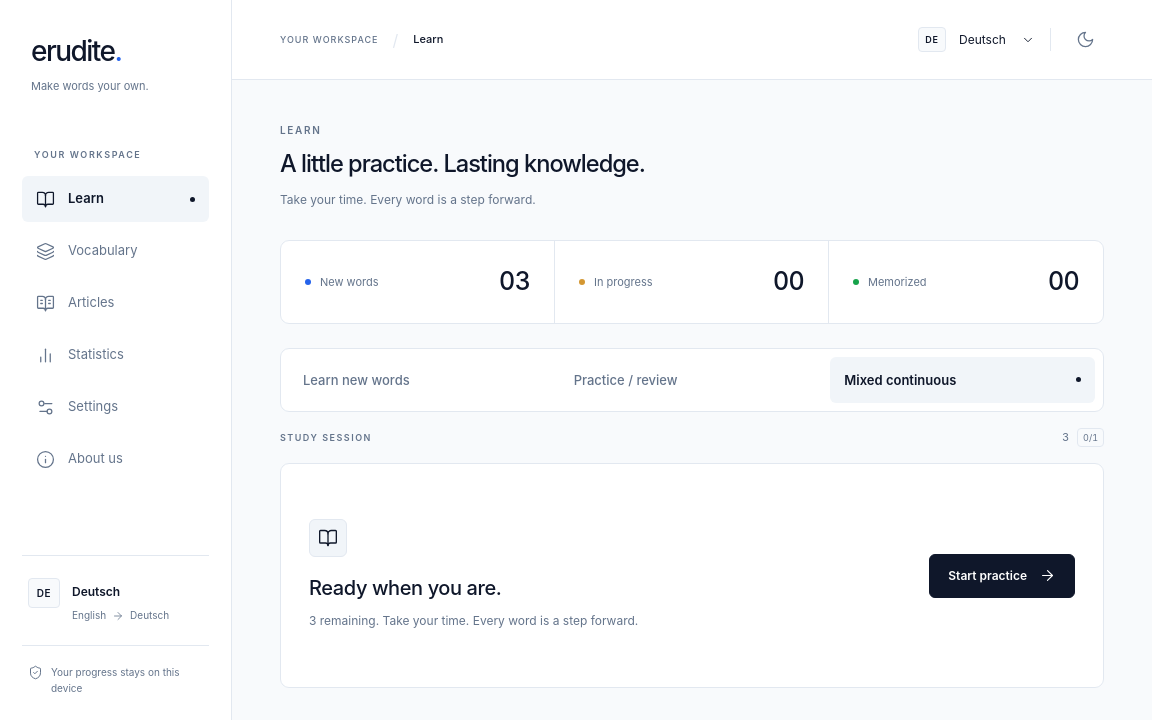
Test case: daily word goal › ends the session and retains progress across an app remount
Click the button "Start practice".
click(1002, 576)  # box [929,554,1075,598]
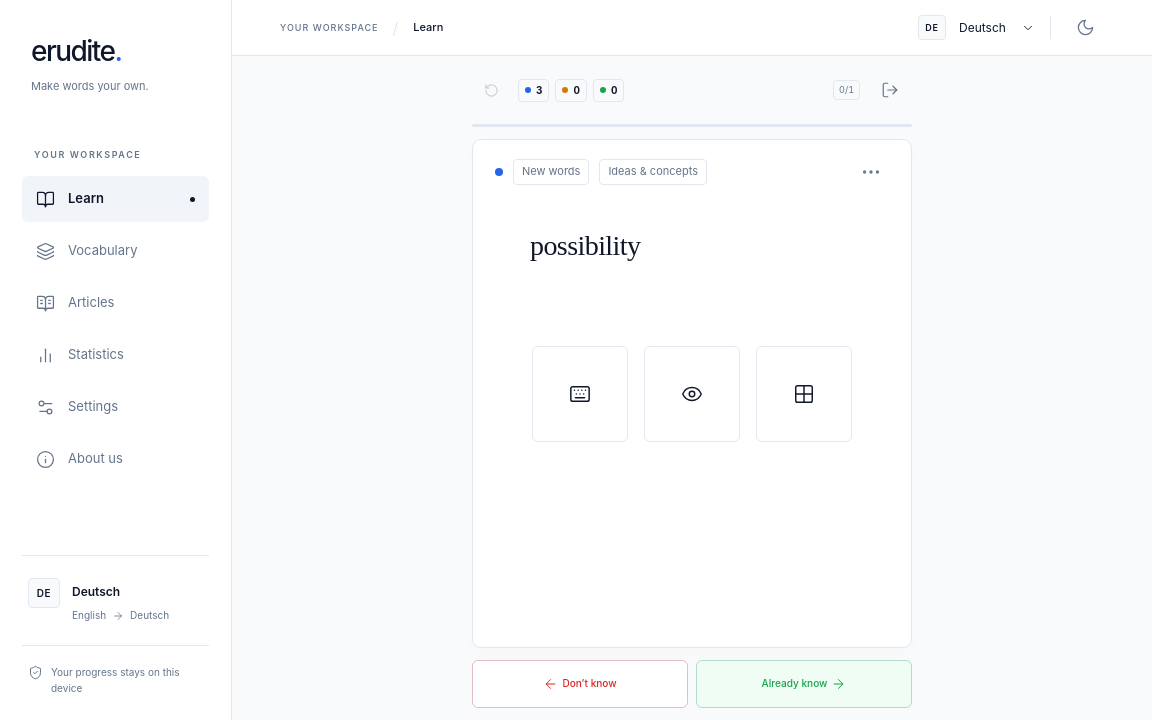
Click the button with class "action-know".
click(804, 684)  # box [696,660,912,708]
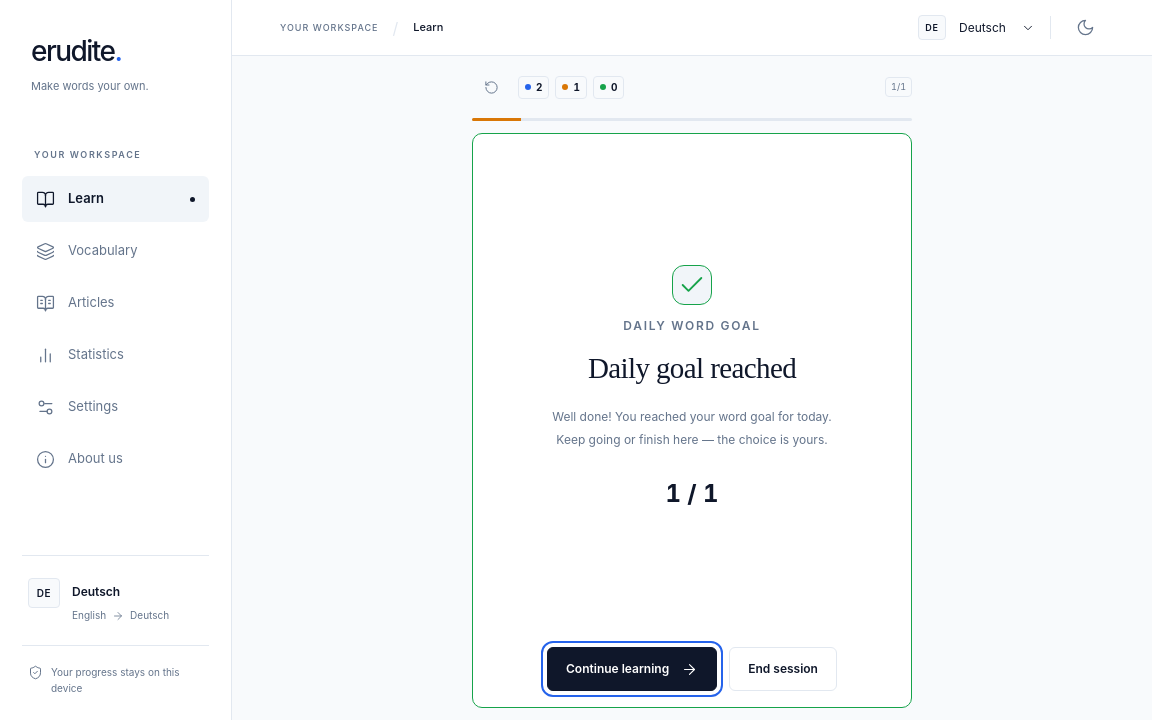
Click the button "End session".
click(783, 669)  # box [729,647,837,691]
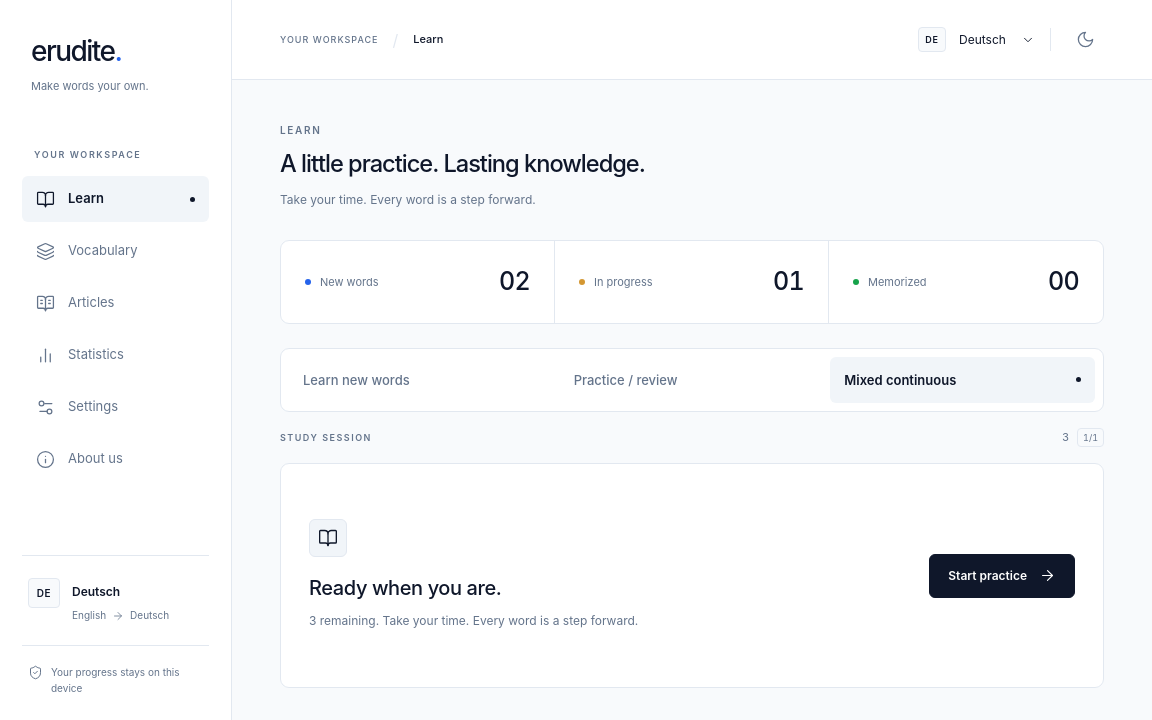
Expected: the element with class "session-goal" has attribute aria-label="Daily word goal: 1 / 1", [1077,428,1104,447]
Click the button "Start practice".
click(1002, 576)  # box [929,554,1075,598]
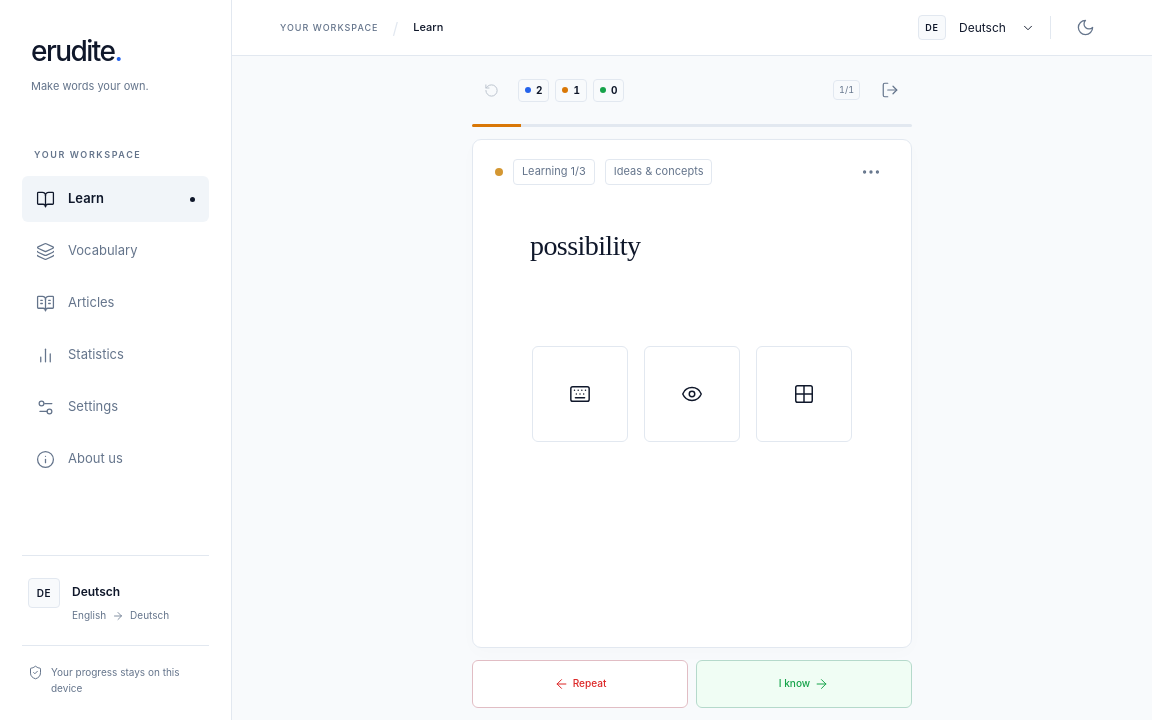
Expected: the text "Daily goal reached" is not shown
Expected: the element showing "Learning 1/3 Ideas & concepts possibility" is shown, [472,139,912,648]
